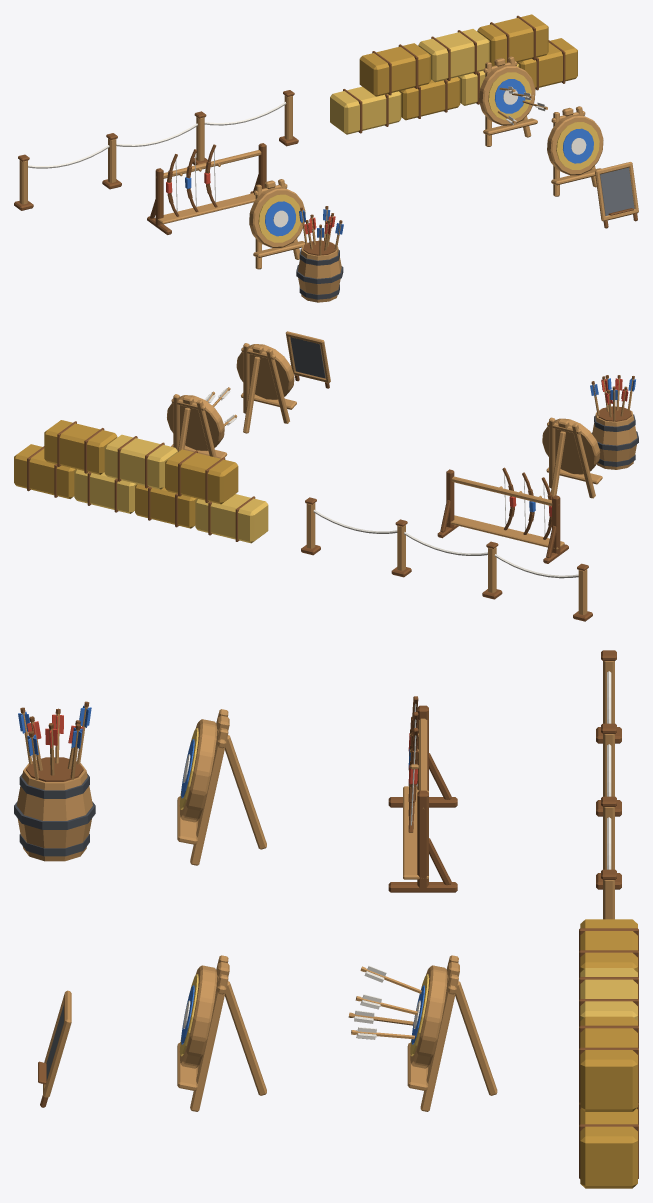
Rendered from archery-range-set.glb.
3 views of the same model, one above another, from view 1: azimuth 30°, elevation 25°; view 2: azimuth 150°, elevation 25°; view 3: azimuth 270°, elevation 25° (orthographic). The views are drawn at different scales.
Visible parts, largest first — view 1: HayBale_Backstop, Target_B_Arrows, BowRack, Target_A, Target_C, ArrowBarrel, RopeLine, ScoreBoard; view 2: HayBale_Backstop, BowRack, ArrowBarrel, RopeLine, Target_A, Target_C, Target_B_Arrows, ScoreBoard; view 3: HayBale_Backstop, ArrowBarrel, Target_B_Arrows, BowRack, Target_A, Target_C, RopeLine, ScoreBoard.
Boxes of the visible parts, box(x1,y1,x2,y2) form: HayBale_Backstop: box(330, 14, 577, 134); Target_B_Arrows: box(479, 56, 547, 146); BowRack: box(147, 143, 266, 234); Target_A: box(547, 106, 603, 196); Target_C: box(249, 179, 305, 269); ArrowBarrel: box(296, 206, 343, 302); RopeLine: box(14, 90, 298, 210); ScoreBoard: box(595, 162, 638, 228); HayBale_Backstop: box(14, 420, 268, 543); BowRack: box(437, 467, 568, 563); ArrowBarrel: box(590, 375, 638, 469); RopeLine: box(301, 497, 592, 621); Target_A: box(236, 343, 296, 433); Target_C: box(542, 417, 602, 505); Target_B_Arrows: box(167, 387, 237, 458); ScoreBoard: box(285, 331, 330, 388); HayBale_Backstop: box(579, 919, 638, 1188); ArrowBarrel: box(14, 701, 95, 861); Target_B_Arrows: box(348, 955, 497, 1111); BowRack: box(388, 696, 457, 892); Target_A: box(177, 955, 266, 1111); Target_C: box(177, 709, 266, 865); RopeLine: box(596, 650, 621, 919); ScoreBoard: box(38, 990, 71, 1107).
Size of the model in its own units: 37.64 by 5.33 by 21.71.
